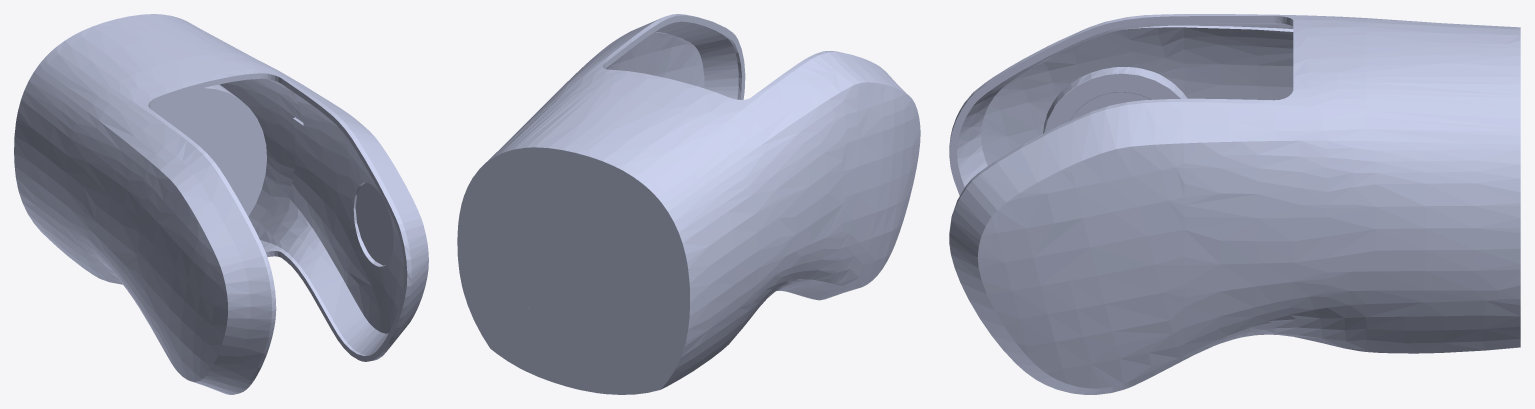
The model's file is left_shoulder_roll_link.dae.
The picture shows the model from 3 angles, left to right: view 1: azimuth 30°, elevation 25°; view 2: azimuth 150°, elevation 25°; view 3: azimuth 270°, elevation 25°; orthographic projection. The views are drawn at different scales.
Parts seen in each view (by area): view 1: left_shoulder_roll_link; view 2: left_shoulder_roll_link; view 3: left_shoulder_roll_link.
Part boxes in pixels (x1,y1,x2,y2): left_shoulder_roll_link: (14, 14, 428, 394); left_shoulder_roll_link: (457, 14, 920, 394); left_shoulder_roll_link: (949, 14, 1520, 394).
Bounding box in the file's own units: 0.0862 × 0.0871 × 0.1491.
